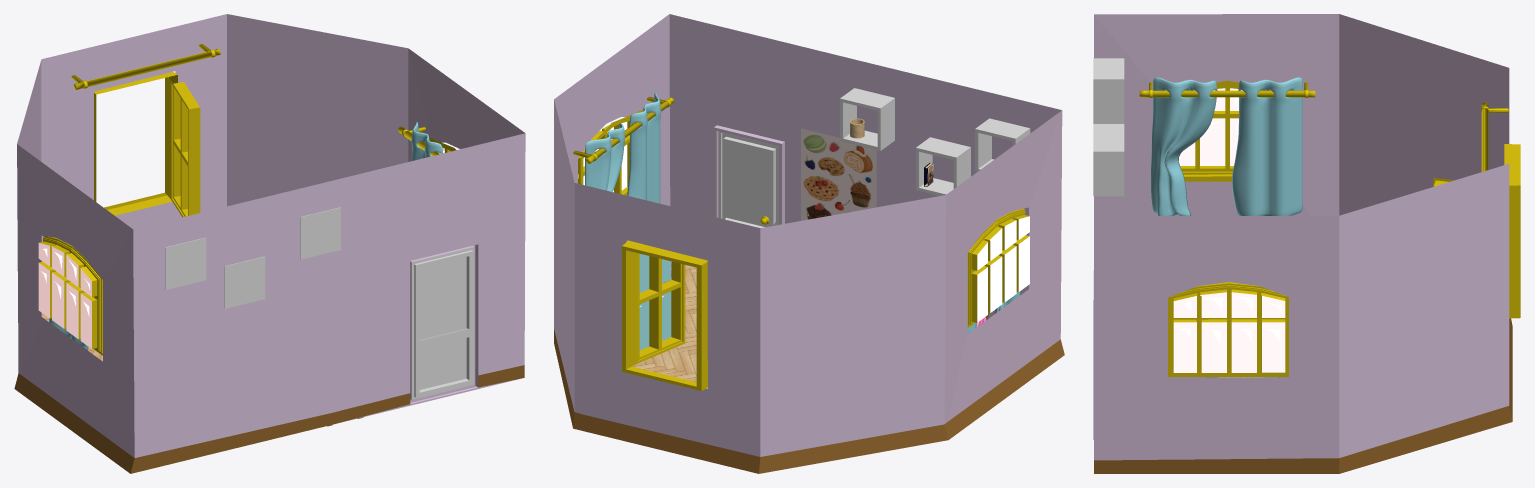
Rendered from chambre_boulangere.glb.
3 views of the same model, side by side, from view 1: azimuth 30°, elevation 25°; view 2: azimuth 150°, elevation 25°; view 3: azimuth 270°, elevation 25° (orthographic). The views are drawn at different scales.
Visible parts, largest first — view 1: sol.001, LIT, FENETRES, BOULANGERIE.001, RIDEAU BARRE.002; view 2: sol.001, LIT, FENETRES, BOULANGERIE.001, BOULANGERIE.002; view 3: sol.001, LIT, BOULANGERIE.002, BOULANGERIE.001, FENETRES, RIDEAU BARRE.002.
Boxes of the visible parts, box(x1,y1,x2,y2) form: sol.001: box(14, 14, 525, 473); LIT: box(49, 122, 442, 426); FENETRES: box(94, 71, 200, 217); BOULANGERIE.001: box(38, 236, 102, 355); RIDEAU BARRE.002: box(71, 44, 220, 89); sol.001: box(554, 14, 1064, 473); LIT: box(573, 88, 1030, 333); FENETRES: box(622, 240, 707, 390); BOULANGERIE.001: box(967, 208, 1029, 327); BOULANGERIE.002: box(578, 109, 642, 195); sol.001: box(1093, 14, 1512, 473); LIT: box(1093, 58, 1315, 377); BOULANGERIE.002: box(1168, 282, 1288, 377); BOULANGERIE.001: box(1166, 80, 1290, 181); FENETRES: box(1433, 144, 1520, 318); RIDEAU BARRE.002: box(1481, 102, 1508, 171).
Size of what is drawn, in the model's own units: 4.04 by 2.36 by 3.52.
Materials: 29 (6 with a texture image).
